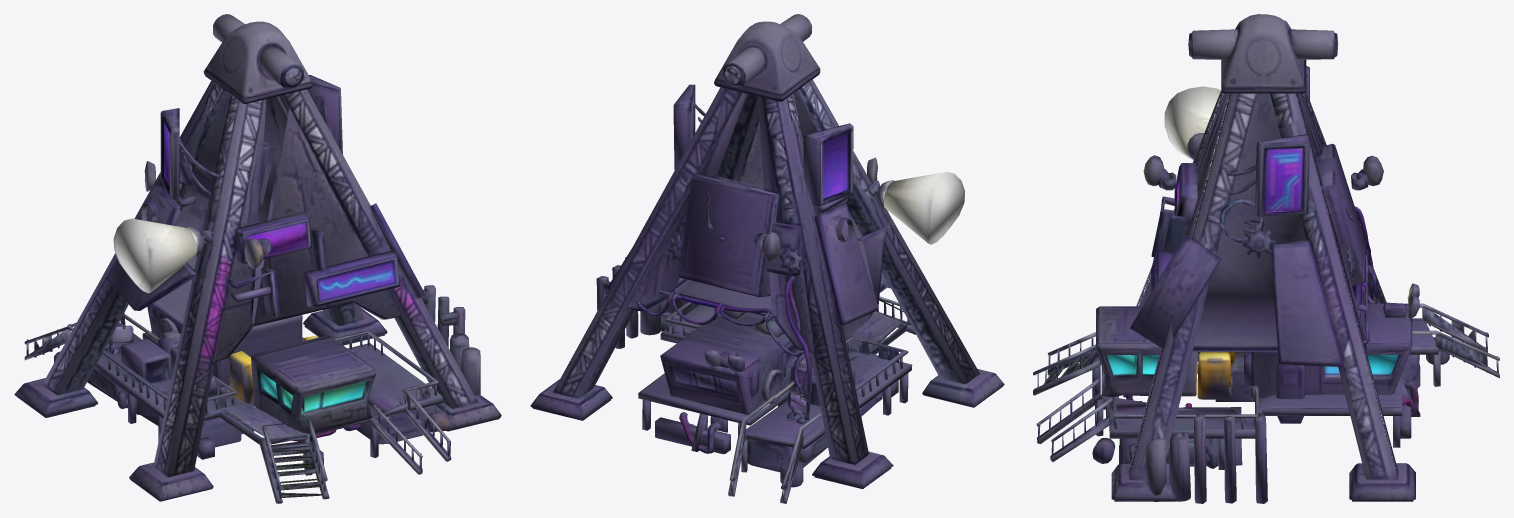
The model's file is ferris_stand.glb.
3 views of the same model, side by side, from view 1: azimuth 30°, elevation 25°; view 2: azimuth 150°, elevation 25°; view 3: azimuth 270°, elevation 25° (orthographic). The views are drawn at different scales.
Parts seen in each view (by area): view 1: tripo_node_f02be806-ad56-4c25-a8fb-a22d1bd6d96d; view 2: tripo_node_f02be806-ad56-4c25-a8fb-a22d1bd6d96d; view 3: tripo_node_f02be806-ad56-4c25-a8fb-a22d1bd6d96d.
Boxes of the visible parts, x1,y1,x2,y2 form: tripo_node_f02be806-ad56-4c25-a8fb-a22d1bd6d96d: (14,14,501,503); tripo_node_f02be806-ad56-4c25-a8fb-a22d1bd6d96d: (530,14,1004,503); tripo_node_f02be806-ad56-4c25-a8fb-a22d1bd6d96d: (1033,14,1499,503).
Bounding box in the file's own units: 0.8926 × 0.9434 × 0.998.
Materials: 1 (1 with a texture image).
